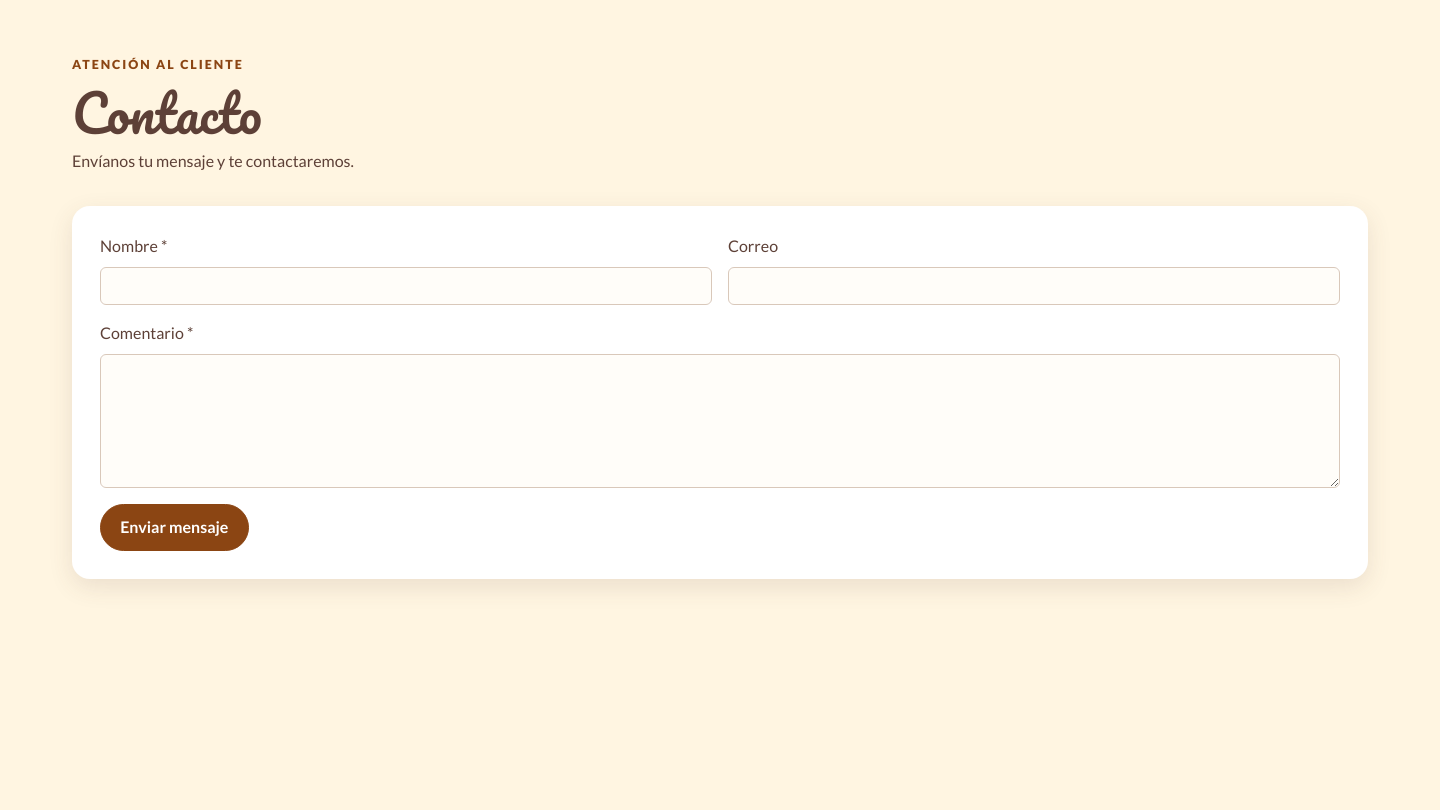
Test: Formulario de Contacto › muestra los campos obligatorios cuando se envía vacío
Click the button "Enviar mensaje": coordinates (174, 527) [100,504,249,551]
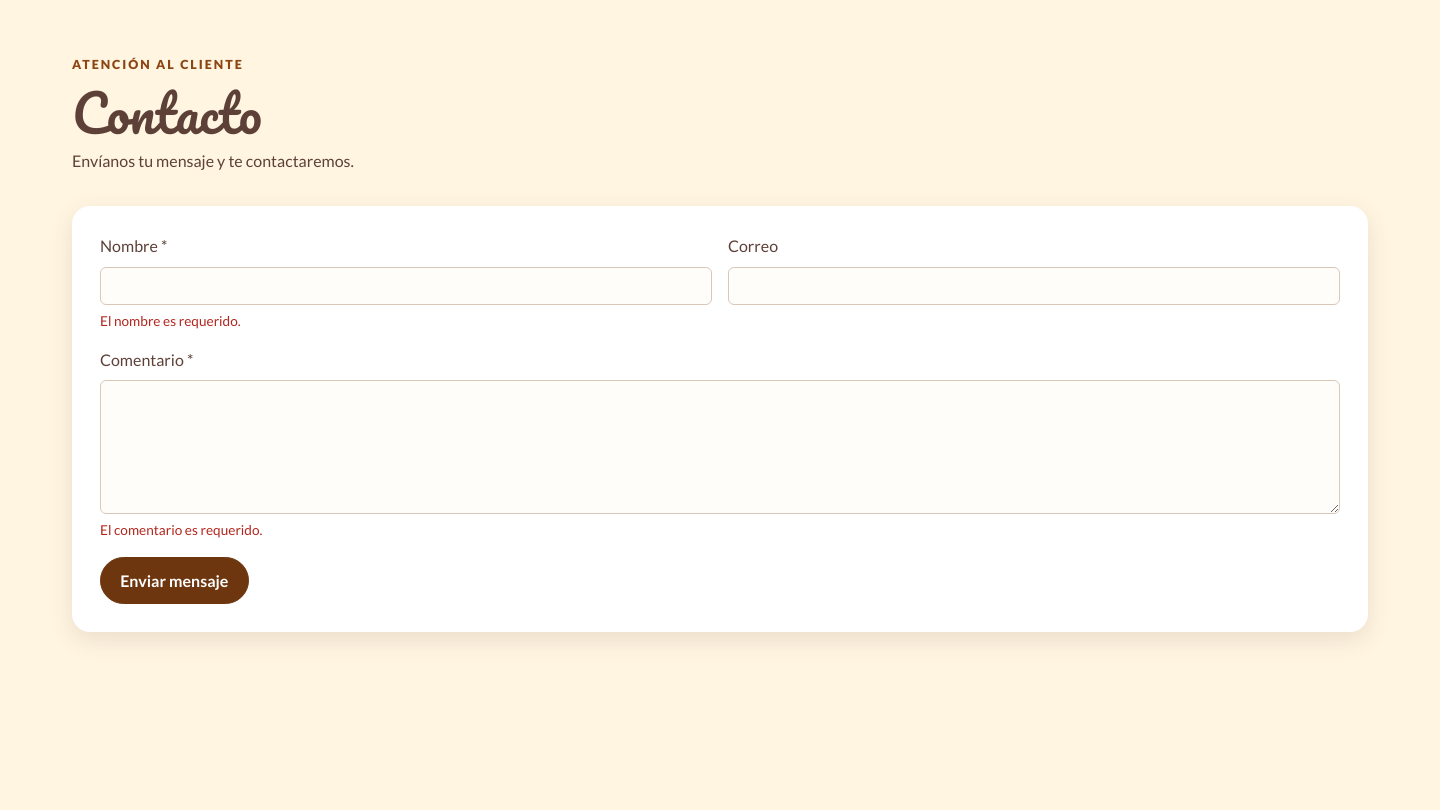
Now the text "El nombre es requerido." is shown, box [100,313,241,329]
Now the text "El comentario es requerido." is shown, box [100,522,262,538]
